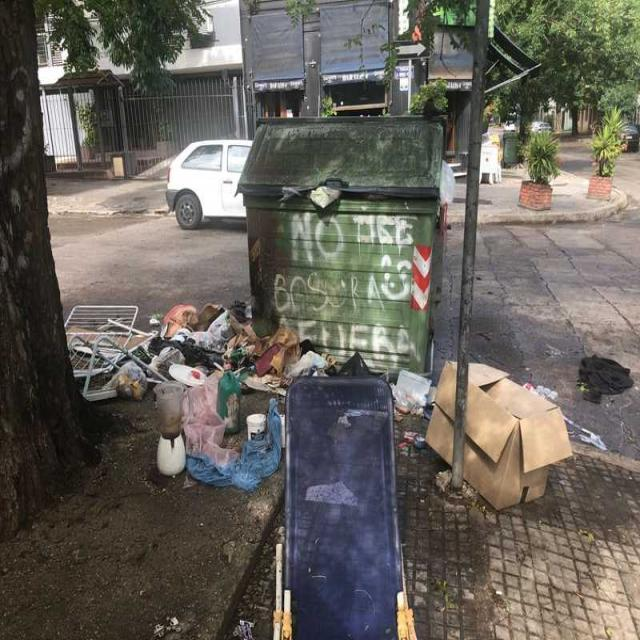garbage: (64, 291, 330, 419), (390, 362, 572, 509), (158, 358, 290, 506), (577, 348, 640, 408), (276, 182, 342, 218), (334, 350, 384, 379)
